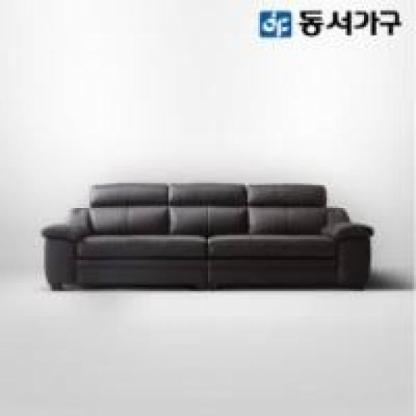Sofa: (26, 156, 390, 309)
